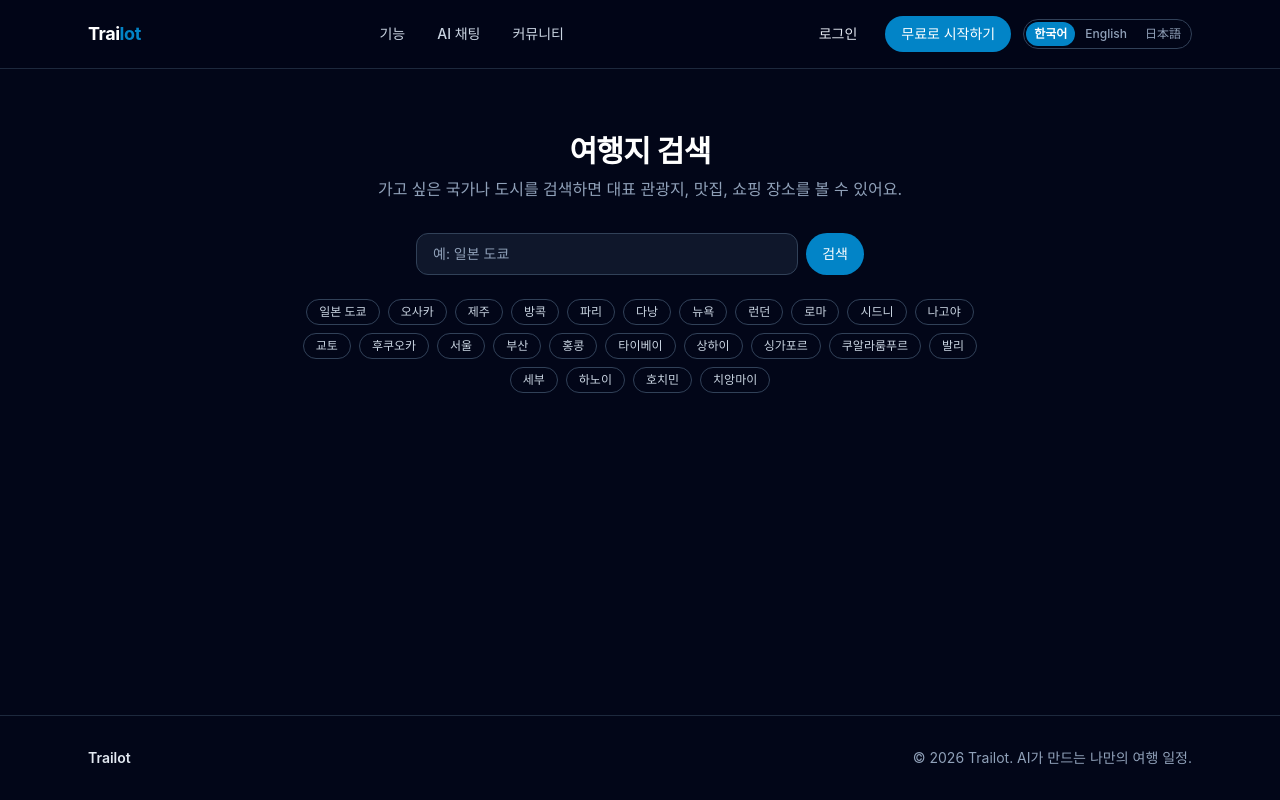
Test case: DestinationSearchPage › shows a fallback with suggestions for an unsupported destination
Type "평행우주 도시" into the field named "여행지 검색" at (607, 254), box [416,233,798,275]
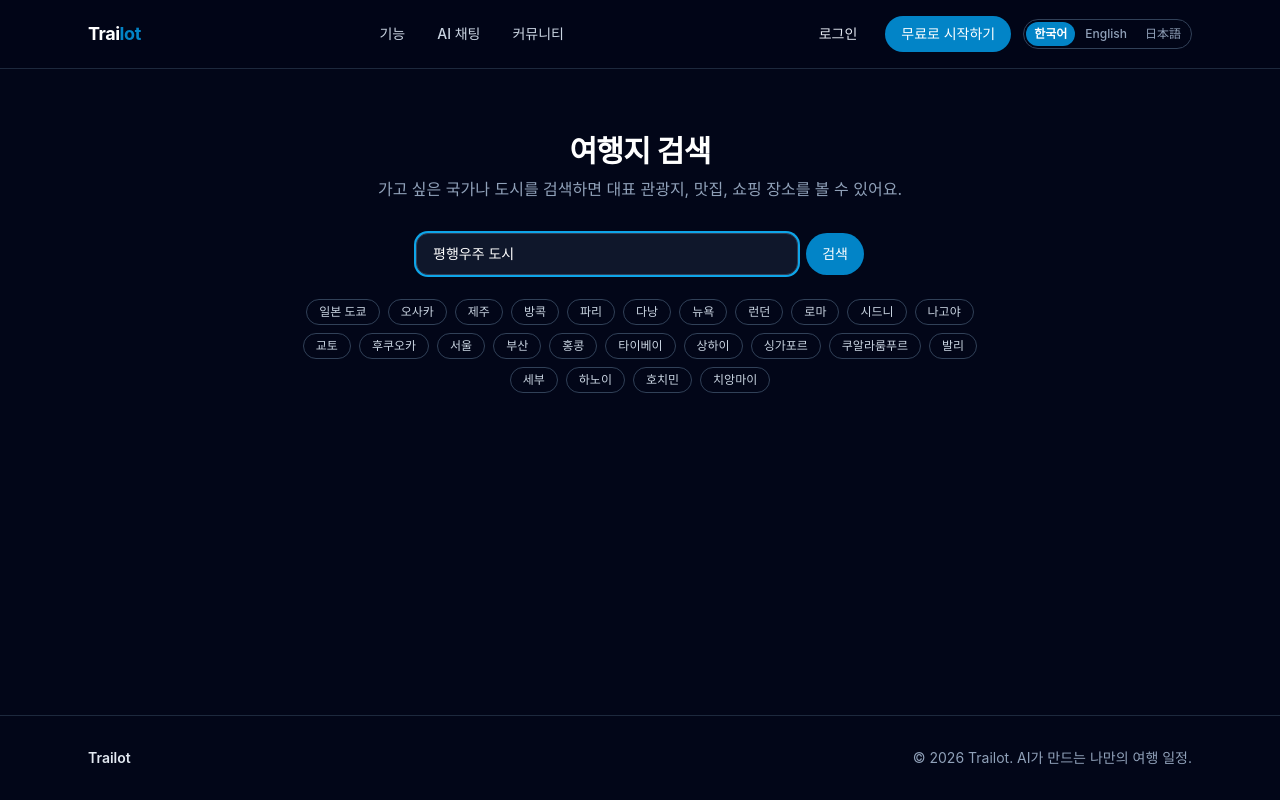
Click the button "검색" at (835, 254), box [806,233,864,275]
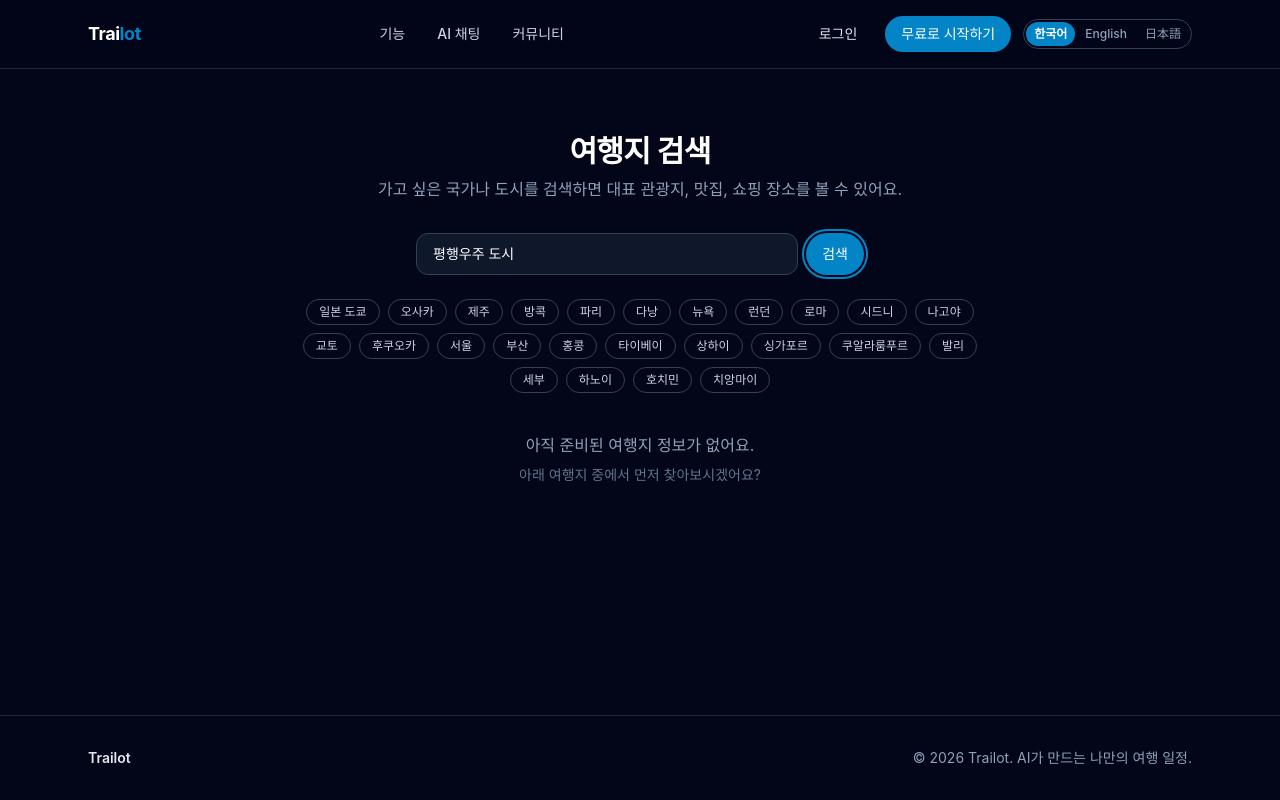
Expected: the button "일본 도쿄" is shown, [306,299,380,325]
Result: the text "아직 준비된 여행지 정보가 없어요." is shown at [526,435,754,455]
